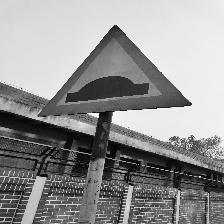Speed-breaker: (39, 25, 191, 115)
